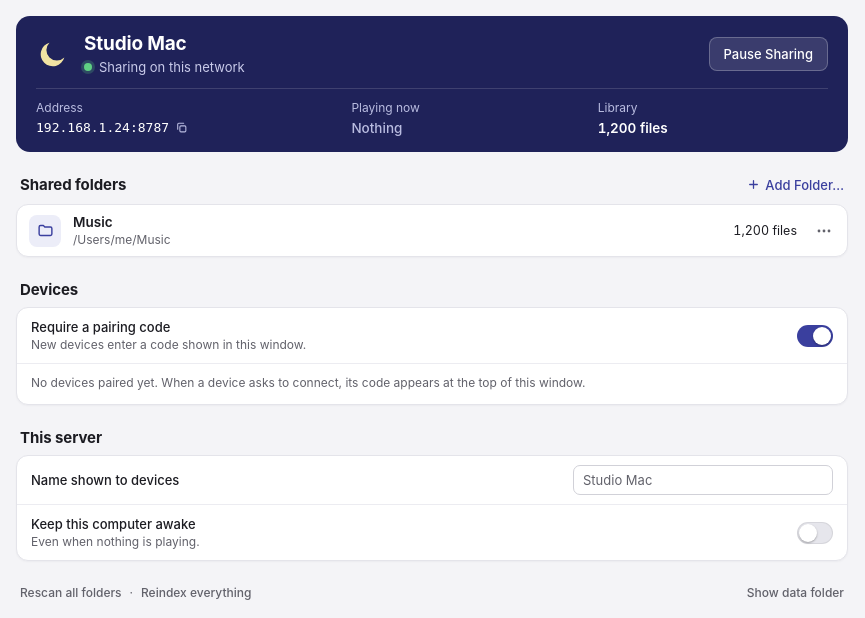
it: renaming › the new name shows while it saves, then the server's
Double-click the text "Music": (93, 222) [73, 214, 112, 230]
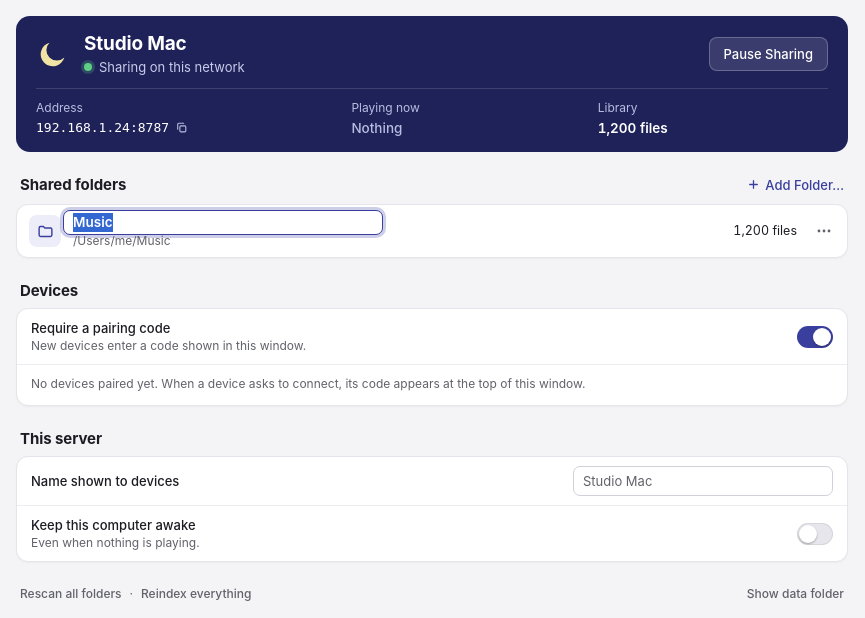
Type keys "{Control>}a{/Control}Records{Enter}"
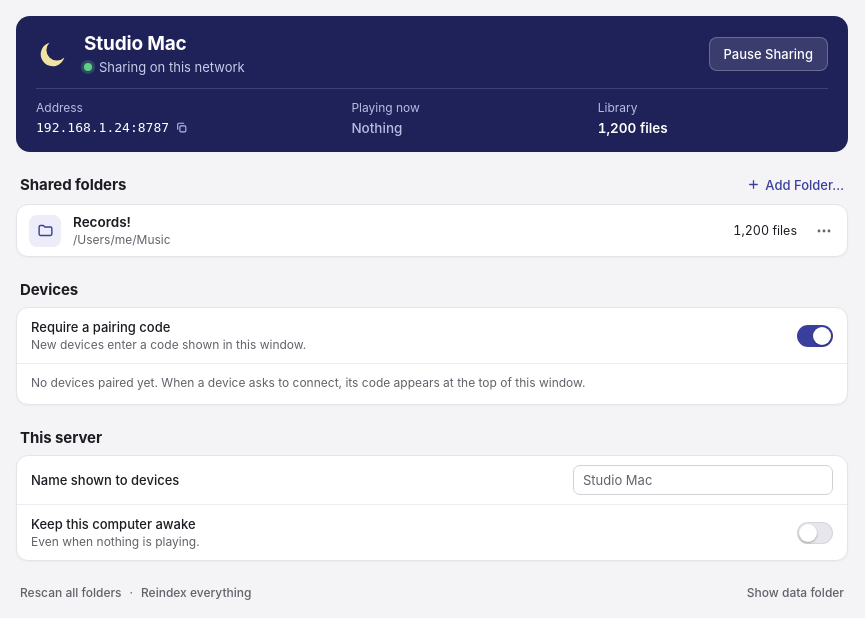
Result: the text "Records!" is shown at [73, 214, 131, 230]
